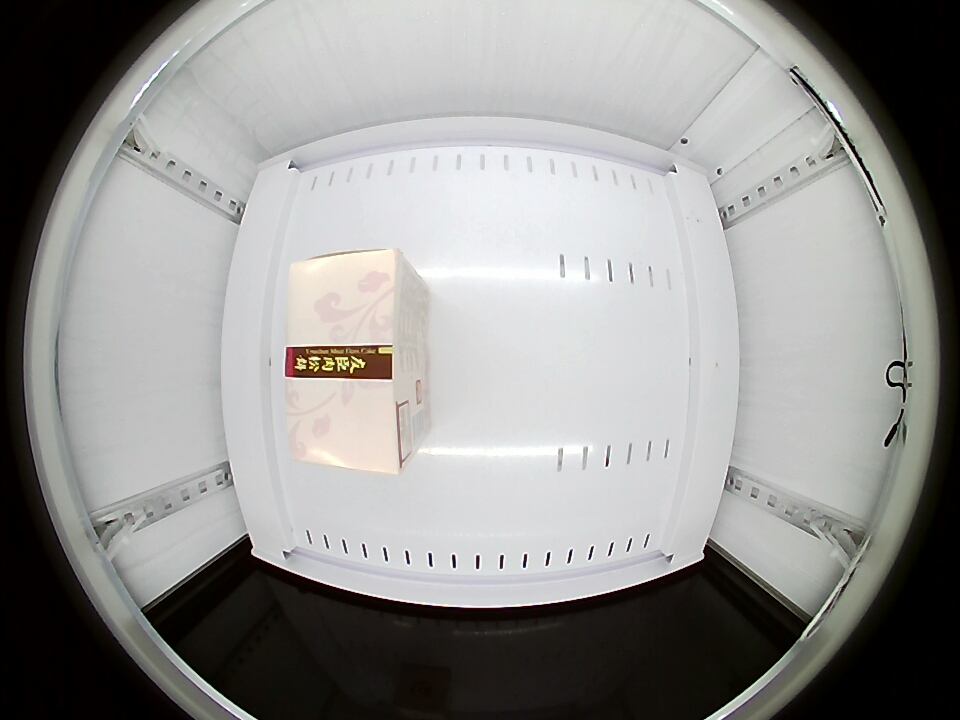rousongbing: (284, 246, 420, 474)
